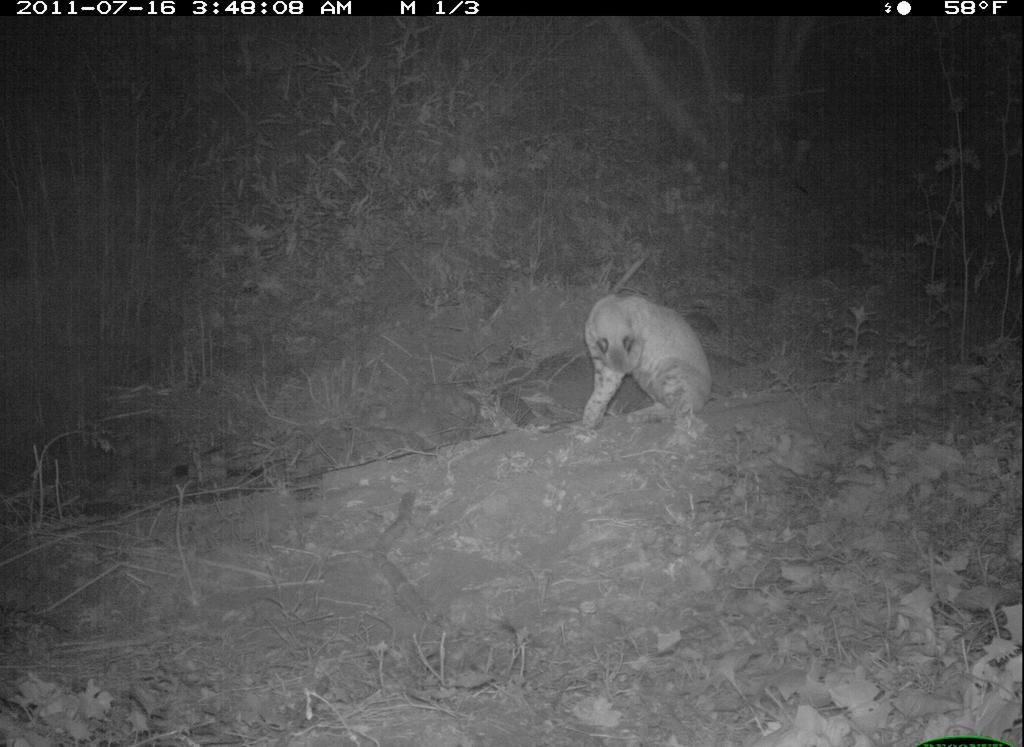bobcat: (568, 283, 731, 466)
